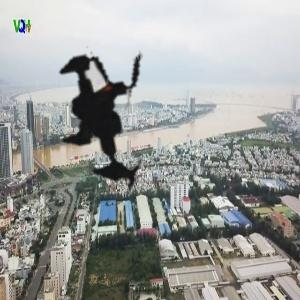drone: (6, 9, 223, 226)
